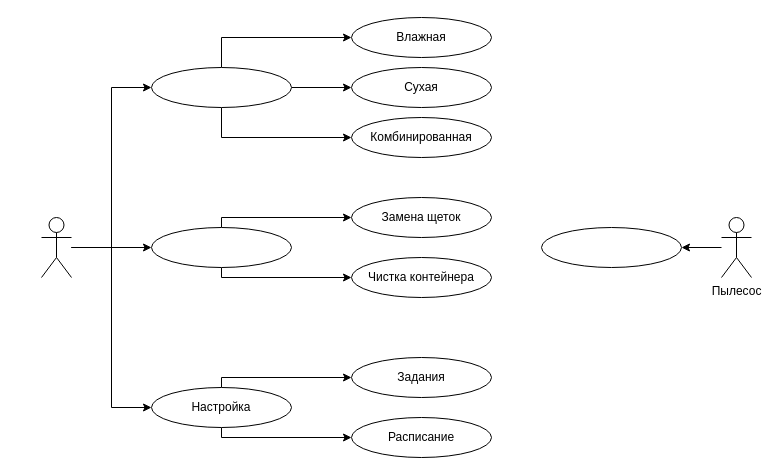
Some shapes in this 779 by 475 pixel diagram are drawn without their labels. The shapes that lost their labels are listed below. From the top down, each one's box as (x1, y1, x2, y2) in pixels, then its label:
(150, 66, 292, 108): Уборка
(40, 216, 72, 278): Пользователь
(150, 226, 292, 268): Обслуживание
(540, 226, 682, 268): Обновление
